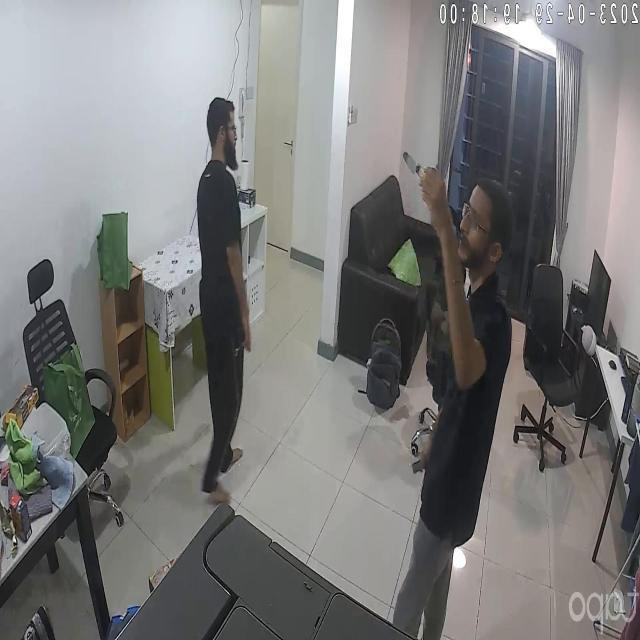Knife: (388, 132, 443, 208)
